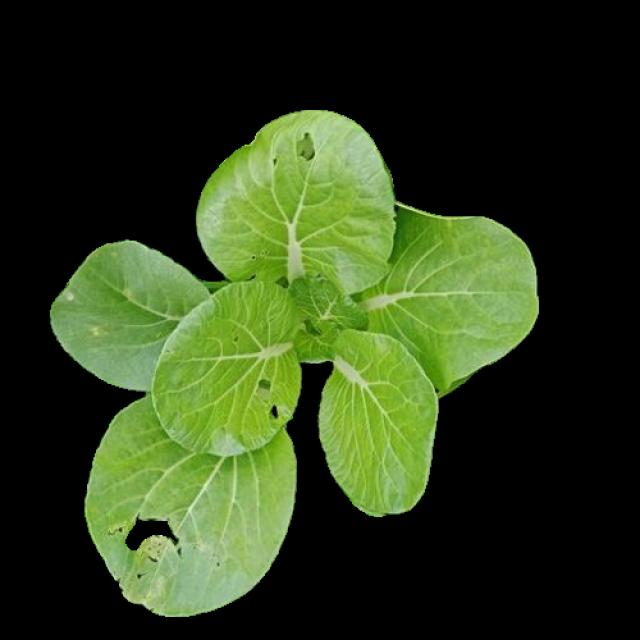not-mature: (50, 111, 538, 612)
unhealthy: (84, 406, 300, 612), (198, 110, 394, 296), (160, 279, 305, 452), (54, 236, 208, 392)
